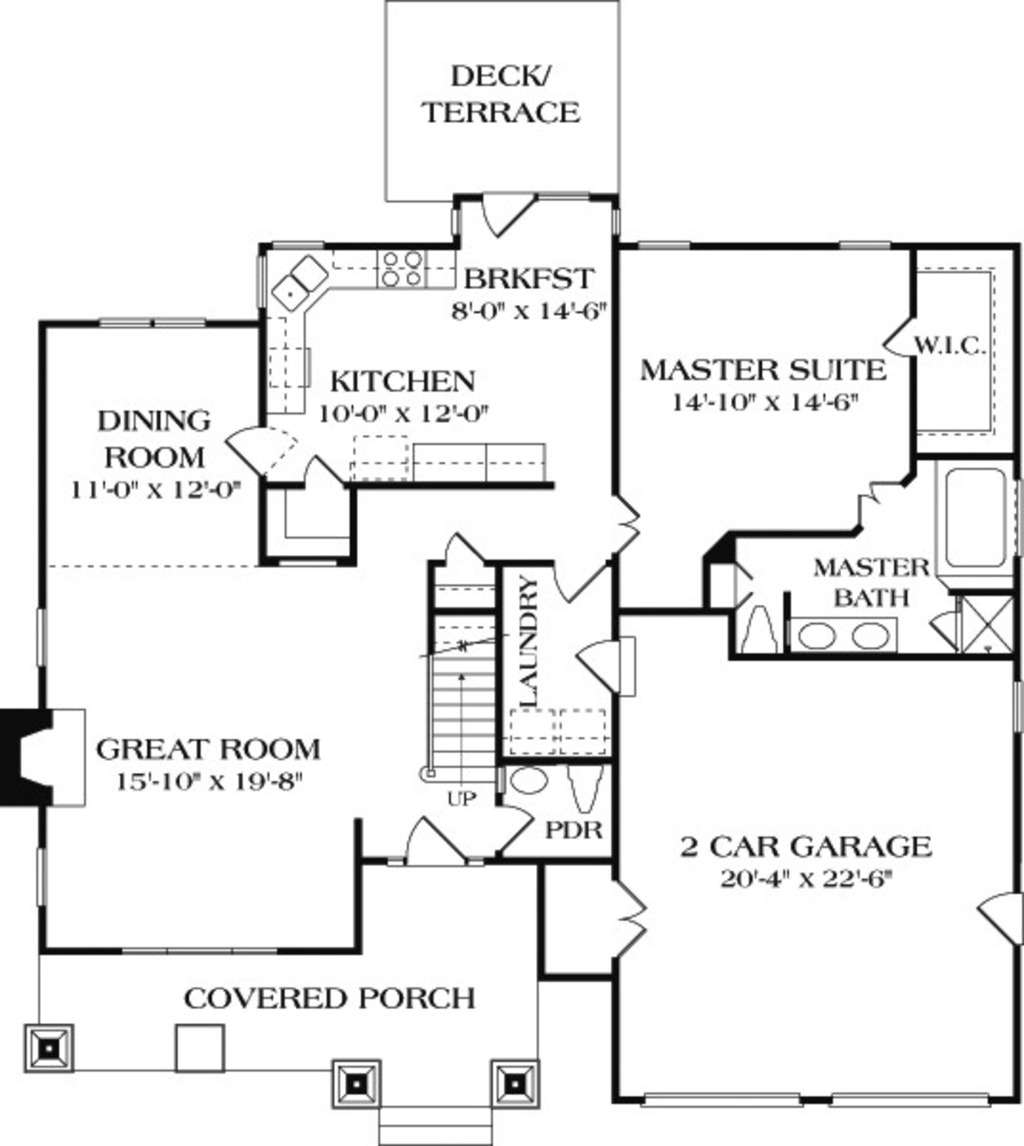door: (594, 871, 650, 962), (846, 461, 903, 541), (475, 173, 539, 243), (219, 421, 294, 480), (573, 632, 644, 693), (876, 307, 939, 375), (398, 816, 466, 875), (550, 557, 625, 609), (605, 489, 650, 566), (428, 527, 505, 571), (968, 887, 1024, 946), (294, 439, 341, 505), (485, 802, 535, 862)
large_sink: (555, 761, 607, 828), (739, 596, 780, 659)
small_sink: (796, 609, 894, 652), (496, 757, 553, 800)
stairs: (425, 582, 494, 789)
tub: (937, 452, 1005, 573)
twin_sink: (266, 252, 334, 314)
window: (91, 302, 216, 346), (823, 1080, 996, 1107), (23, 841, 68, 921), (630, 1087, 803, 1107), (609, 228, 712, 259), (21, 600, 59, 671), (825, 225, 898, 259)
